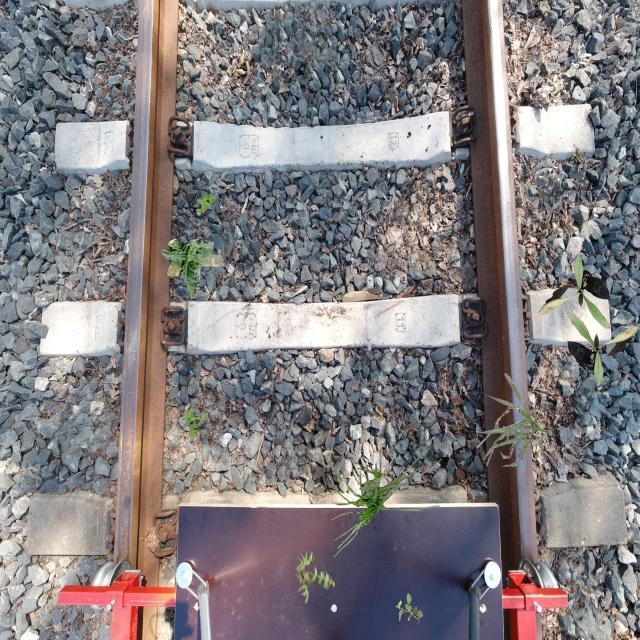Plant: (323, 435, 442, 558), (476, 373, 549, 466), (538, 254, 610, 328), (567, 312, 638, 386), (161, 239, 224, 301), (295, 551, 336, 605), (396, 593, 424, 624), (182, 408, 206, 438), (196, 192, 216, 217)
